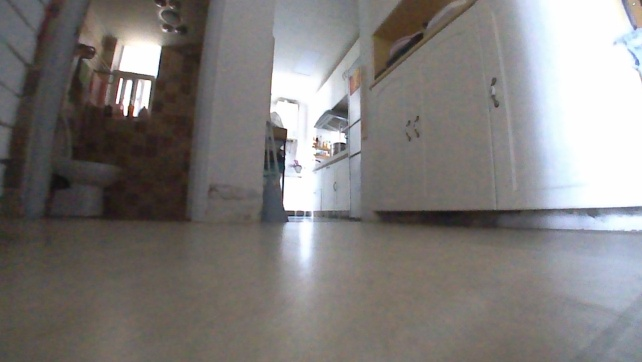cupboard: (310, 149, 351, 218)
toilet: (49, 154, 124, 218)
